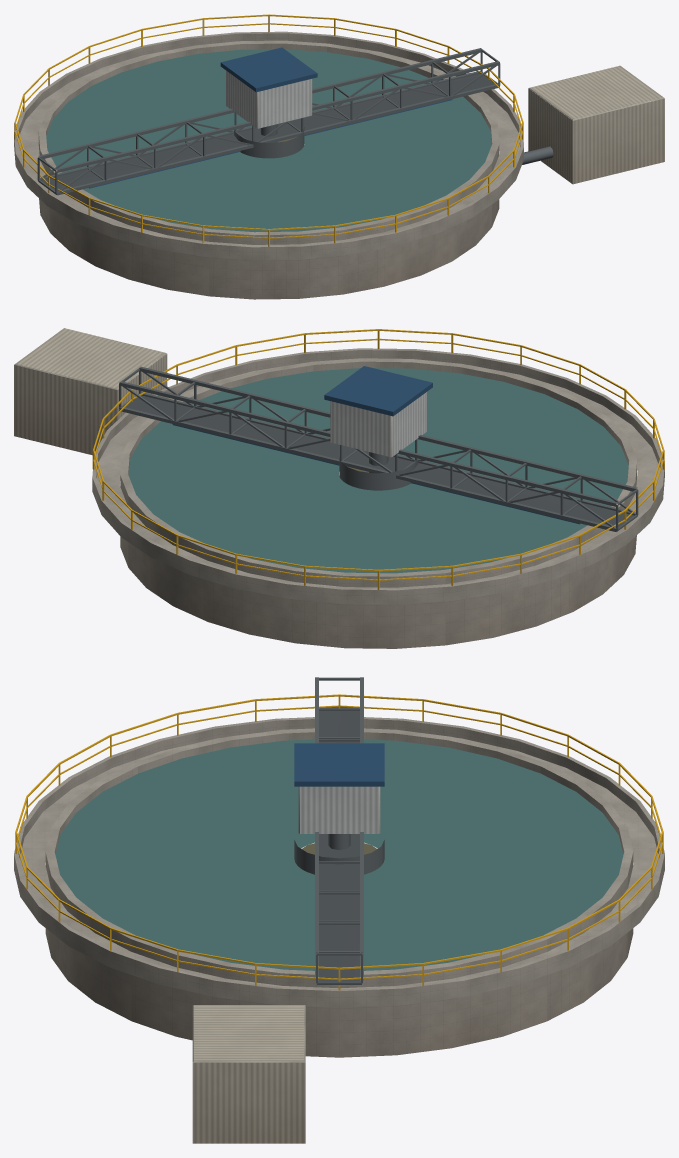
Rendered from thickener_concentrate_lod0.glb.
3 views of the same model, one above another, from view 1: azimuth 30°, elevation 25°; view 2: azimuth 150°, elevation 25°; view 3: azimuth 270°, elevation 25° (orthographic). The views are drawn at different scales.
Parts seen in each view (by area): view 1: tank, water, rake; view 2: tank, water, rake; view 3: tank, water.
Part boxes in pixels (x1,y1,x2,y2): tank: [14, 14, 664, 299]; water: [46, 49, 491, 232]; rake: [89, 99, 452, 188]; tank: [14, 328, 664, 648]; water: [128, 368, 628, 573]; rake: [172, 424, 580, 524]; tank: [14, 677, 664, 1143]; water: [55, 739, 623, 970].
Size of the model in its own units: 36.45 by 8.35 by 28.8.
10 materials, 3 textured.
